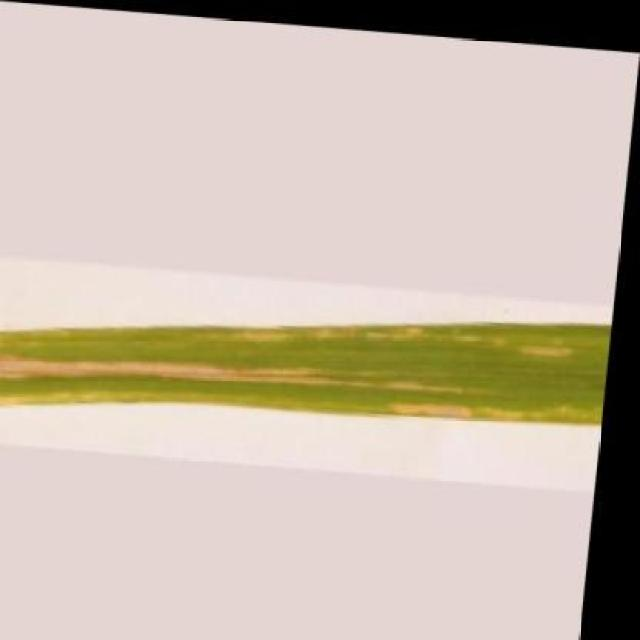Brown_Spot: (0, 270, 618, 453)
